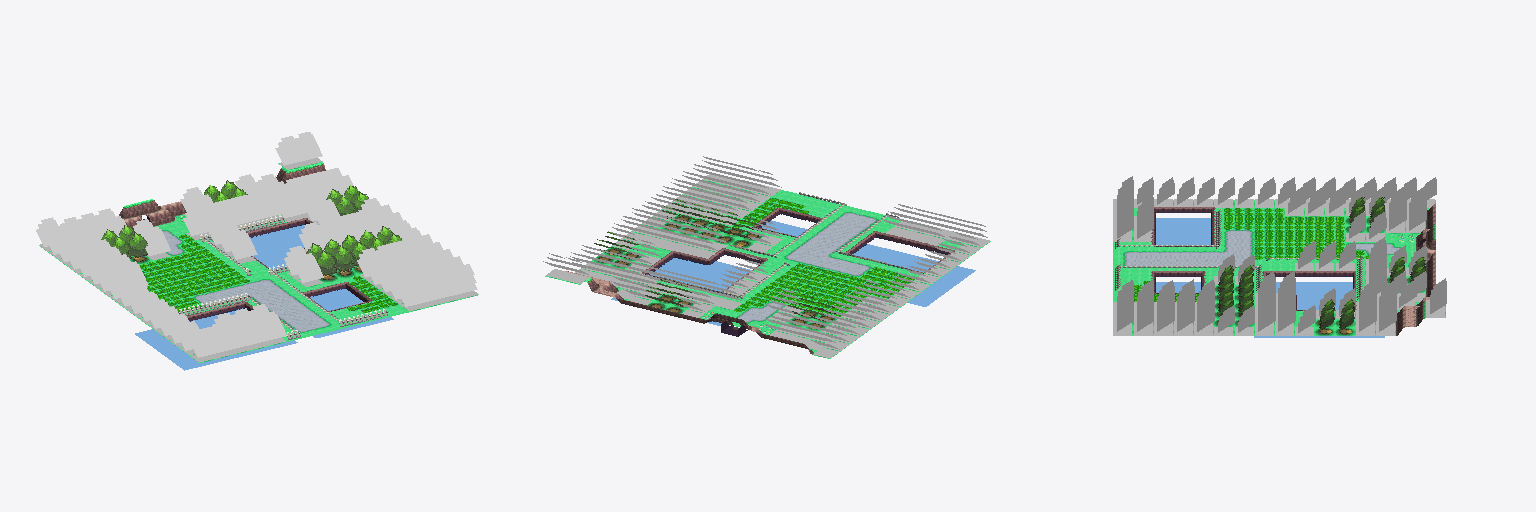
3 views of the same model, side by side, from view 1: azimuth 30°, elevation 25°; view 2: azimuth 150°, elevation 25°; view 3: azimuth 270°, elevation 25° (orthographic).
Parts seen in each view (by area): view 1: polygon7, polygon9, polygon4, polygon18, polygon14, polygon1, polygon8, polygon10, polygon6, polygon5, polygon11, polygon2 (+3 smaller); view 2: polygon7, polygon4, polygon8, polygon1, polygon18, polygon9, polygon10, polygon5, polygon12, polygon13, polygon11, polygon0 (+2 smaller); view 3: polygon7, polygon9, polygon4, polygon8, polygon1, polygon18, polygon14, polygon5, polygon10, polygon12, polygon11, polygon13 (+2 smaller).
Boxes of the visible parts, <box> form: polygon7: <box>36,132,426,354</box>; polygon9: <box>189,168,476,350</box>; polygon4: <box>139,234,398,312</box>; polygon18: <box>135,225,393,370</box>; polygon14: <box>101,180,401,268</box>; polygon1: <box>155,218,408,341</box>; polygon8: <box>189,207,478,362</box>; polygon10: <box>162,229,333,333</box>; polygon6: <box>178,215,387,339</box>; polygon5: <box>187,218,372,321</box>; polygon11: <box>166,238,319,327</box>; polygon2: <box>119,162,325,216</box>; polygon7: <box>543,170,980,357</box>; polygon4: <box>732,197,914,316</box>; polygon8: <box>572,165,989,305</box>; polygon1: <box>618,190,960,352</box>; polygon18: <box>611,220,975,325</box>; polygon9: <box>570,156,986,290</box>; polygon10: <box>736,211,880,324</box>; polygon5: <box>642,208,954,291</box>; polygon12: <box>545,180,990,358</box>; polygon13: <box>597,208,835,329</box>; polygon11: <box>751,216,866,316</box>; polygon0: <box>568,271,813,354</box>; polygon7: <box>1113,177,1446,335</box>; polygon9: <box>1118,176,1395,325</box>; polygon4: <box>1134,208,1368,301</box>; polygon8: <box>1113,195,1396,335</box>; polygon1: <box>1113,208,1429,327</box>; polygon18: <box>1153,218,1384,337</box>; polygon14: <box>1219,197,1425,322</box>; polygon5: <box>1151,207,1356,310</box>; polygon10: <box>1123,230,1401,267</box>; polygon12: <box>1132,200,1445,335</box>; polygon11: <box>1133,234,1243,263</box>; polygon13: <box>1215,205,1425,334</box>.
Bounding box in the file's own units: 8.12 × 1.66 × 8.28.
Materials: 20 (17 with a texture image).